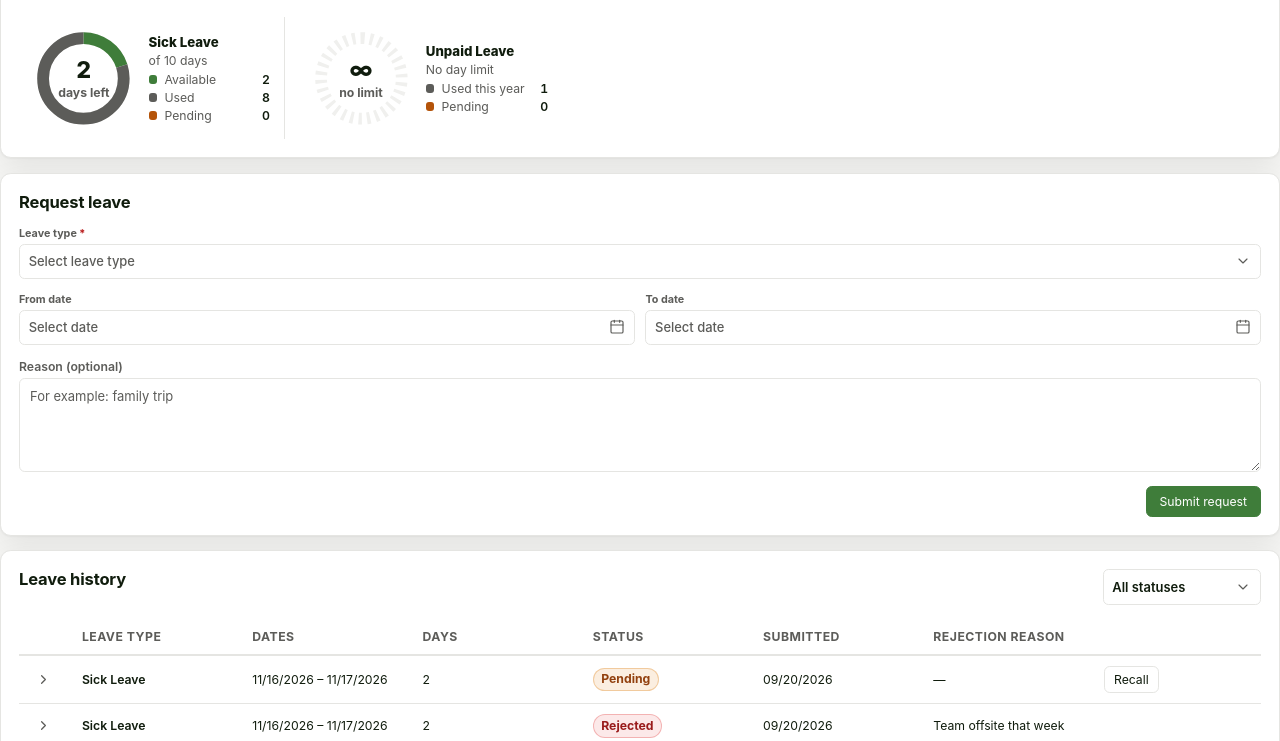
LeavesWorkspace › shows a request's history, with the earlier rejection, when its row is opened
Click the button named "Show details" in the row of "Rejected": (44, 726) [32,714,55,737]
(page scrolled)
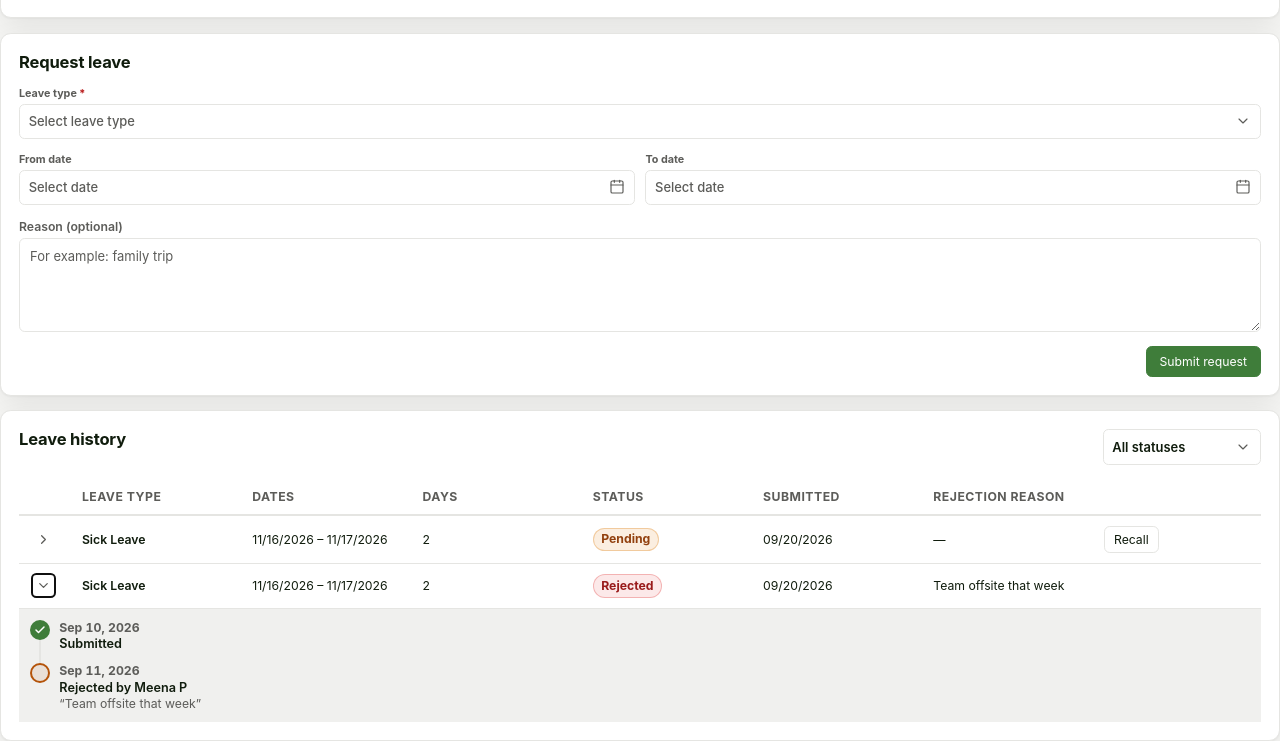
Result: the list named "Request history" shows "Rejected by Meena P" at [59,680,187,695]
